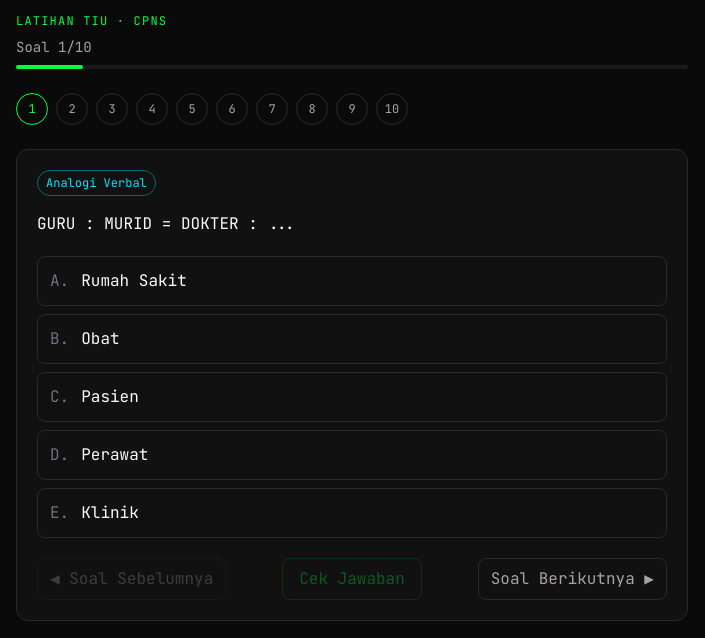
it: LatihanCpnsTiu › jumps directly to a question via the number-pill navigator
Click the button "5".
click(192, 109)  # box [176, 93, 208, 125]
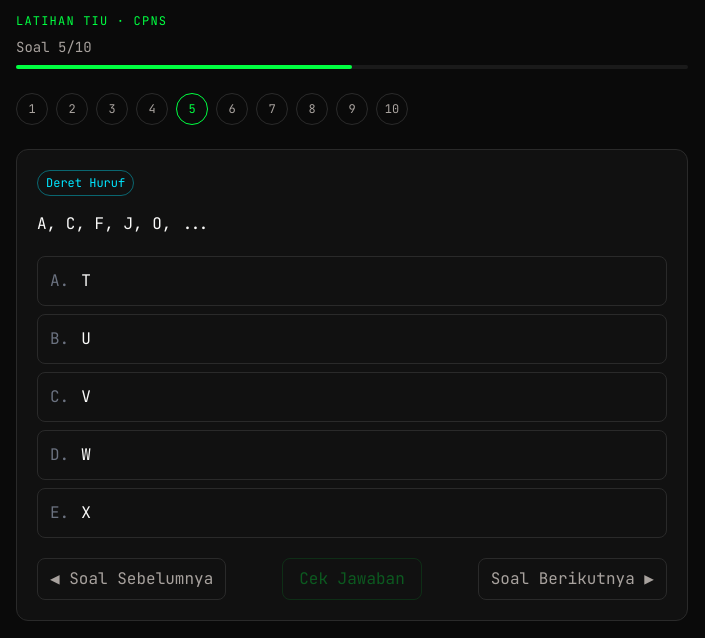
Expected: the text "Soal 5/10" is shown, [16, 38, 92, 56]
Expected: the text "Deret Huruf" is shown, [37, 170, 134, 196]
